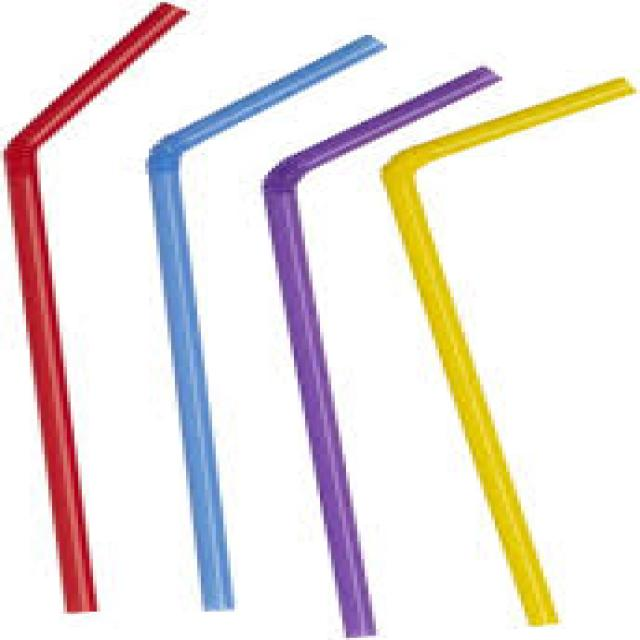straw: (381, 79, 631, 624), (264, 68, 496, 637), (149, 39, 375, 609), (4, 4, 181, 611)
